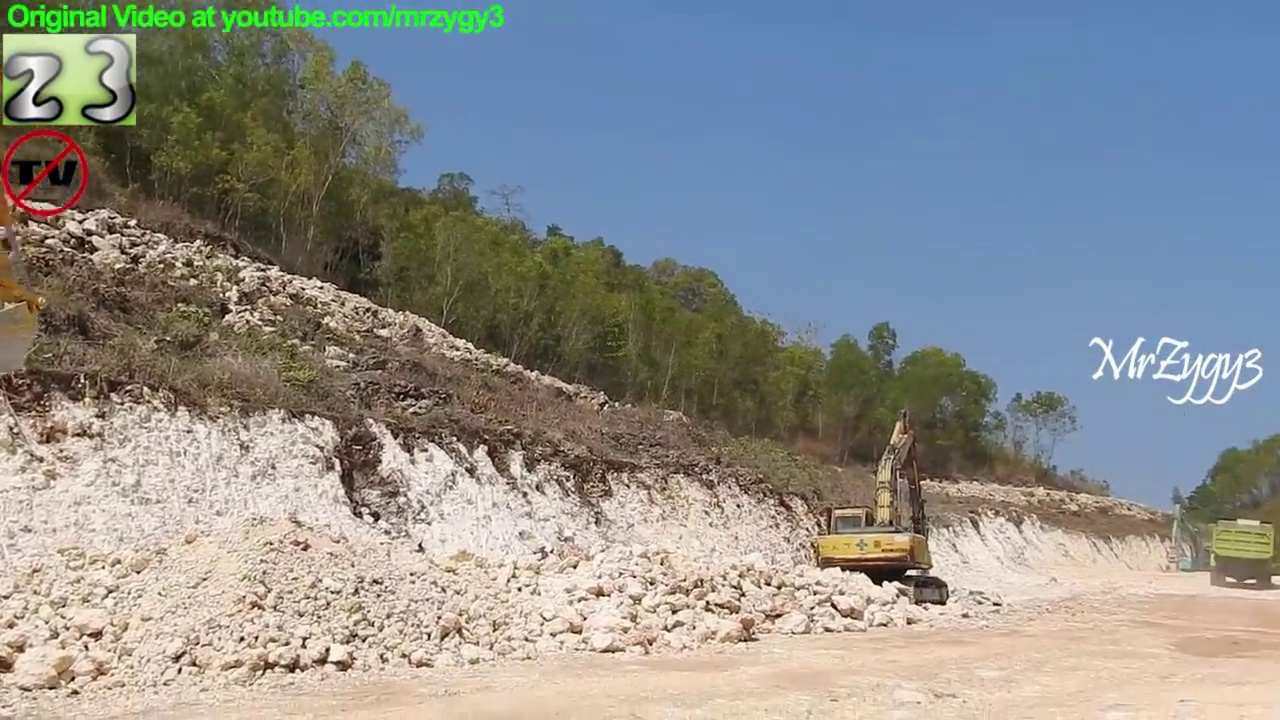excavator: (812, 406, 954, 613), (1168, 502, 1215, 576)
truck: (1212, 513, 1275, 593)
